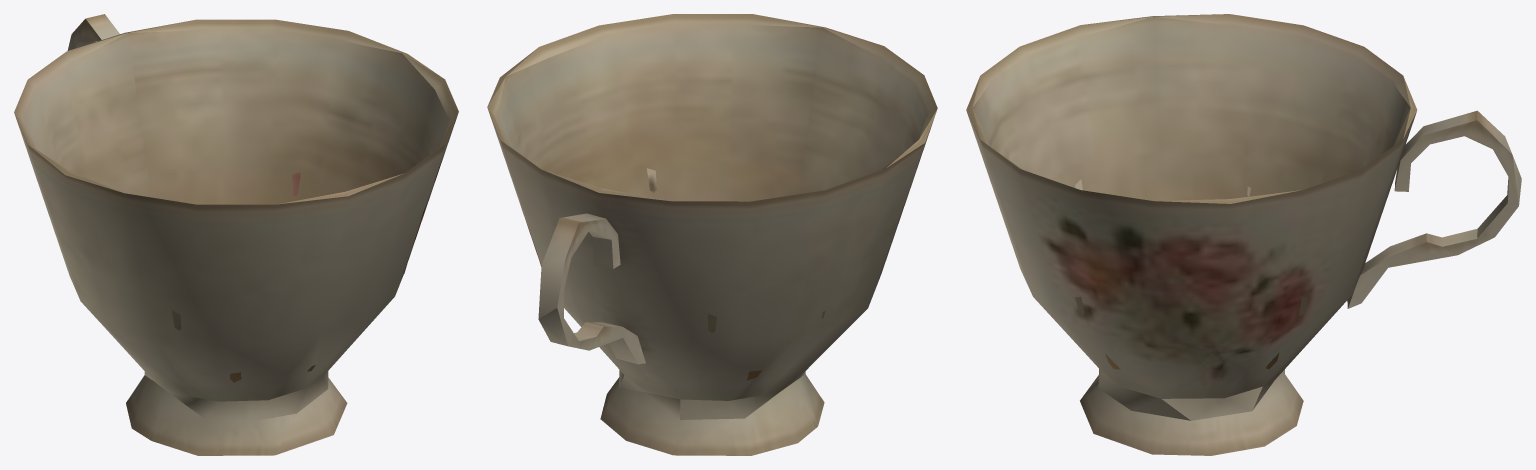
Rendered from teacup.lod1.glb.
The picture shows the model from 3 angles, left to right: view 1: azimuth 30°, elevation 25°; view 2: azimuth 150°, elevation 25°; view 3: azimuth 270°, elevation 25°; orthographic projection.
Parts seen in each view (by area): view 1: teacup.001; view 2: teacup.001; view 3: teacup.001.
Boxes of the visible parts, bbox=[...] form: teacup.001: bbox=[14, 14, 458, 455]; teacup.001: bbox=[487, 14, 937, 455]; teacup.001: bbox=[966, 14, 1521, 455].
Bounding box in the file's own units: 0.0816 × 0.0616 × 0.1021.
Materials: 1 (1 with a texture image).
